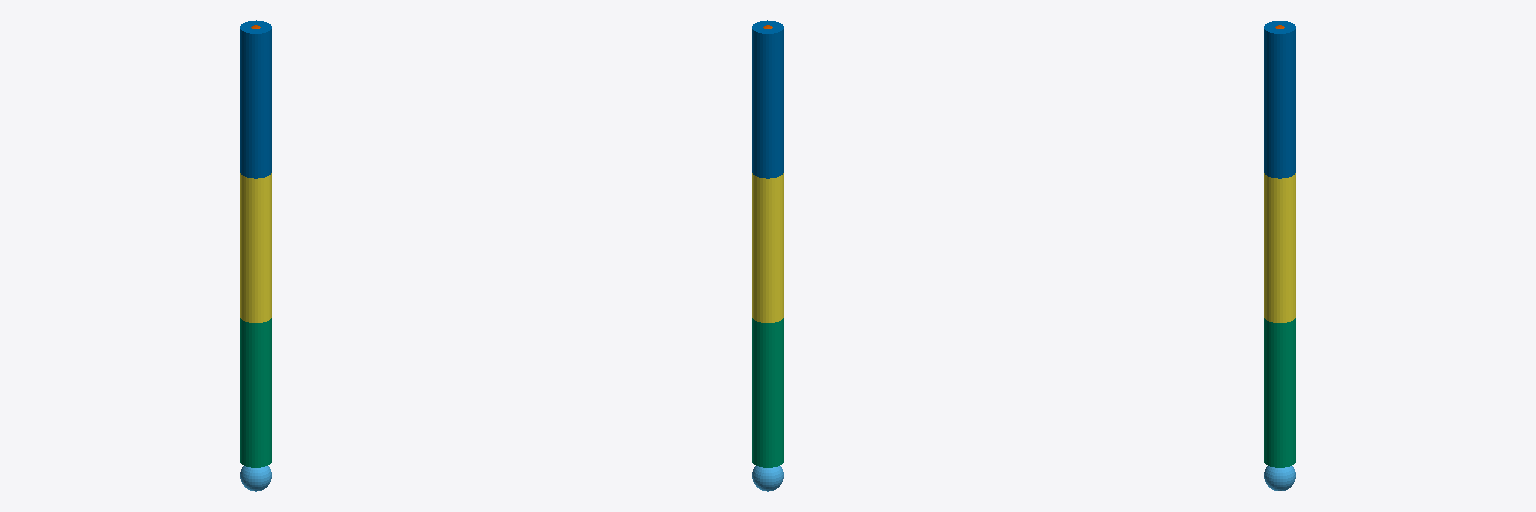
robot.urdf — description:
<?xml version="1.0"?>
<robot name="description">
  <link name="world"/>
  <joint name="robot_to_world" type="fixed">
    <parent link="world"/>
    <child link="link0"/>
    <origin rpy="0.0 0.0 0.0" xyz="0.0 0.0 0.0"/>
  </joint>
  <!-- end for simulation -->
  <link name="link0">
    <visual>
      <geometry>
        <sphere radius="0.1"/>
      </geometry>
    </visual>
    <collision>
      <geometry>
        <sphere radius="0.1"/>
      </geometry>
    </collision>
    <!-- for simulation -->
    <inertial>
      <origin rpy="0 0 0" xyz="0 0 0.05"/>
      <mass value="1.00"/>
      <inertia ixx="0.25083" ixy="0.0" ixz="0.0" iyy="0.25083" iyz="0.0" izz="0.5"/>
    </inertial>
    <!-- end for simulation -->
  </link>
  <link name="link1">
    <visual>
      <origin xyz="0 0 0.6" rpy="0 0 0"/>
      <geometry>
        <cylinder length="1.0" radius="0.1"/>
      </geometry>
    </visual>
    <collision>
      <origin xyz="0 0 0.6" rpy="0 0 0"/>
      <geometry>
        <cylinder length="1.0" radius="0.1"/>
      </geometry>
    </collision>
    <!-- for simulation -->
    <inertial>
      <origin rpy="0 0 0" xyz="0 0 0.5"/>
      <mass value="1.0"/>
      <inertia ixx="0.0858" ixy="0.0" ixz="0.0" iyy="0.0858" iyz="0.0" izz="0.005"/>
    </inertial>
    <!-- end for simulation -->
  </link>
  <link name="link2">
    <visual>
      <origin xyz="0 0 0.6" rpy="0 0 0"/>
      <geometry>
        <cylinder length="1.0" radius="0.1"/>
      </geometry>
    </visual>
    <collision>
      <origin xyz="0 0 0.6" rpy="0 0 0"/>
      <geometry>
        <cylinder length="1.0" radius="0.1"/>
      </geometry>
    </collision>
    <!-- for simulation -->
    <inertial>
      <origin rpy="0 0 0" xyz="0 0 0.5"/>
      <mass value="1.0"/>
      <inertia ixx="0.0858" ixy="0.0" ixz="0.0" iyy="0.0858" iyz="0.0" izz="0.005"/>
    </inertial>
    <!-- end for simulation -->
  </link>
  <link name="link3">
    <visual>
      <origin xyz="0 0 0.6" rpy="0 0 0"/>
      <geometry>
        <cylinder length="1.0" radius="0.1"/>
      </geometry>
    </visual>
    <collision>
      <origin xyz="0 0 0.6" rpy="0 0 0"/>
      <geometry>
        <cylinder length="1.0" radius="0.1"/>
      </geometry>
    </collision>
    <!-- for simulation -->
    <inertial>
      <origin rpy="0 0 0" xyz="0 0 0.5"/>
      <mass value="1.0"/>
      <inertia ixx="0.0858" ixy="0.0" ixz="0.0" iyy="0.0858" iyz="0.0" izz="0.005"/>
    </inertial>
    <!-- end for simulation -->
  </link>
  <joint name="joint1" type="revolute">
    <safety_controller k_position="100.0" k_velocity="40.0" soft_lower_limit="-2.8973" soft_upper_limit="2.8973"/>
    <origin rpy="0 0 0" xyz="0 0 0.0"/>
    <parent link="link0"/>
    <child link="link1"/>
    <axis xyz="1 0 0"/>
    <limit effort="87" lower="-2.8973" upper="2.8973" velocity="2.1750"/>
    <!-- for simulation -->
    <dynamics damping="0.0" friction="0.0"/>
    <!-- end for simulation -->
  </joint>
  <joint name="joint2" type="revolute">
    <safety_controller k_position="100.0" k_velocity="40.0" soft_lower_limit="-2.8973" soft_upper_limit="2.8973"/>
    <origin rpy="0 0 0" xyz="0 0 1"/>
    <parent link="link1"/>
    <child link="link2"/>
    <axis xyz="1 0 0"/>
    <limit effort="87" lower="-2.8973" upper="2.8973" velocity="2.1750"/>
    <!-- for simulation -->
    <dynamics damping="0.0" friction="0.0"/>
    <!-- end for simulation -->
  </joint>
  <joint name="joint3" type="revolute">
    <safety_controller k_position="100.0" k_velocity="40.0" soft_lower_limit="-2.8973" soft_upper_limit="2.8973"/>
    <origin rpy="0 0 0" xyz="0 0 1"/>
    <parent link="link2"/>
    <child link="link3"/>
    <axis xyz="1 0 0"/>
    <limit effort="87" lower="-2.8973" upper="2.8973" velocity="2.1750"/>
    <!-- for simulation -->
    <dynamics damping="0.0" friction="0.0"/>
    <!-- end for simulation -->
  </joint>
  <link name="link4">
    <visual>
      <origin xyz="0 0 0.005" rpy="0 0 0"/>
      <geometry>
        <sphere radius="0.1"/>
      </geometry>
    </visual>
    <collision>
      <geometry>
        <sphere radius="0.01"/>
      </geometry>
    </collision>
    <!-- for simulation -->
    <inertial>
      <origin rpy="0 0 0" xyz="0 0 0.005"/>
      <mass value="0.0001"/>
      <inertia ixx="0.00005" ixy="0.0" ixz="0.0" iyy="0.00005" iyz="0.0" izz="0.00005"/>
    </inertial>
    <!-- end for simulation -->
  </link>
  <joint name="joint4" type="fixed">
    <origin rpy="0 0 0" xyz="0 0 1.0"/>
    <parent link="link3"/>
    <child link="link4"/>
    <axis xyz="0 0 1"/>
  </joint>
  <!-- end for simulation -->
</robot>

--- What the picture shows (computed from the rendered views, not written in the file) ---
Views: 3 orthographic renders of the robot side by side, from view 1: azimuth 30°, elevation 25°; view 2: azimuth 150°, elevation 25°; view 3: azimuth 270°, elevation 25°.
Model description with 6 links and 5 joints (3 revolute, 2 fixed), rooted at world, posed every joint at zero.
Visible links, largest first — view 1: link3, link1, link2, link0; view 2: link3, link1, link2, link0; view 3: link3, link1, link2, link0.
Boxes of the visible links, x1,y1,x2,y2 form: link3: (240, 20, 271, 178); link1: (240, 318, 271, 467); link2: (240, 173, 271, 322); link0: (240, 466, 271, 491); link3: (752, 20, 783, 178); link1: (752, 318, 783, 467); link2: (752, 173, 783, 322); link0: (752, 466, 783, 491); link3: (1264, 21, 1295, 178); link1: (1264, 318, 1295, 467); link2: (1264, 173, 1295, 322); link0: (1264, 466, 1295, 490).
Size in the robot's own frame: 0.2 by 0.2 by 3.21 metres.
Geometry: primitives only (box / cylinder / sphere), no mesh files.